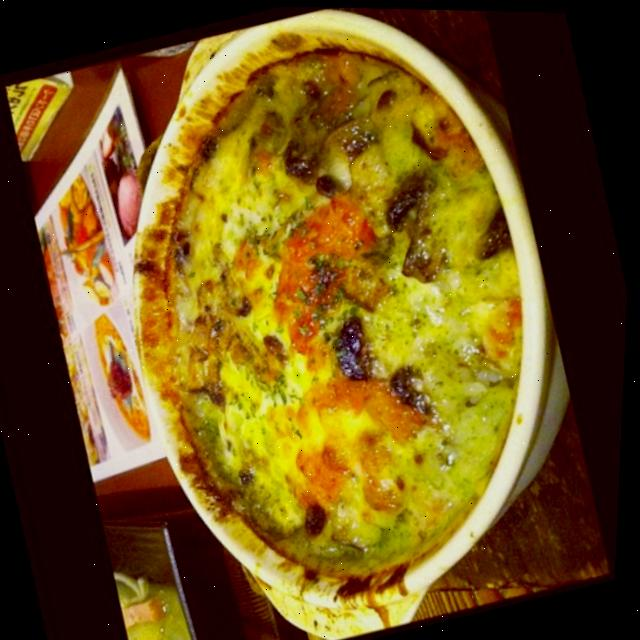米饭主食: (49, 1, 640, 640)
